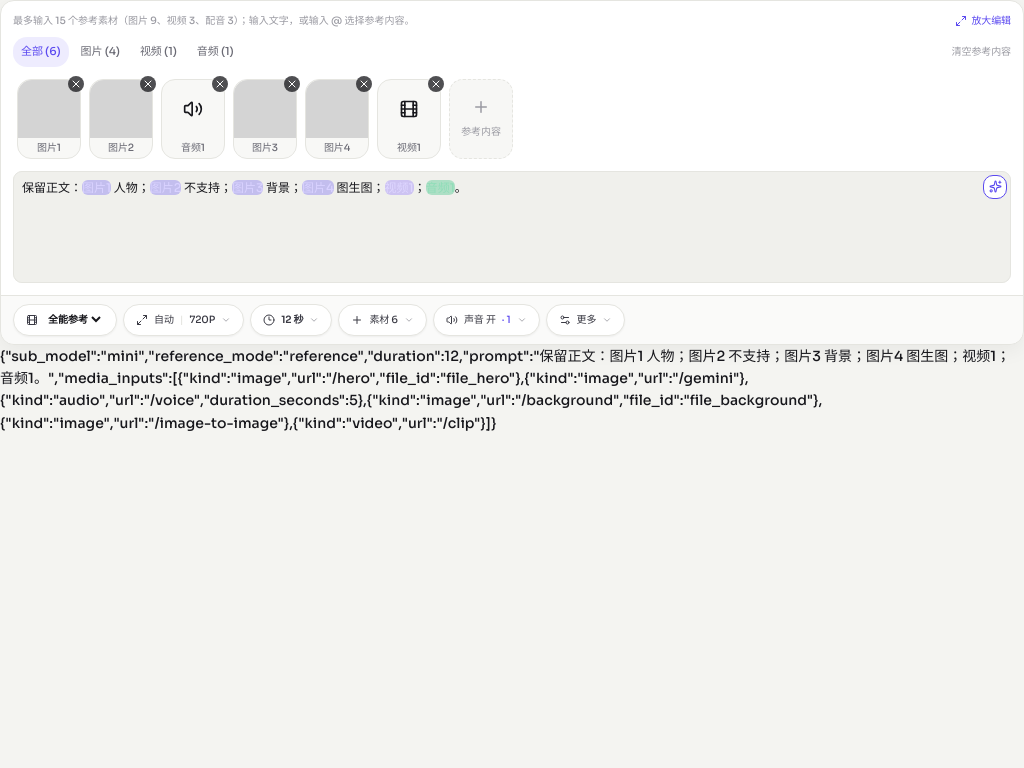
Test: portrait reference removal consent › never offers to clear every image, preserving audio, prompt and the unchecked mode
Step 1. Click the button with aria-label "高级设置" → click(586, 320), box [546, 304, 625, 336]
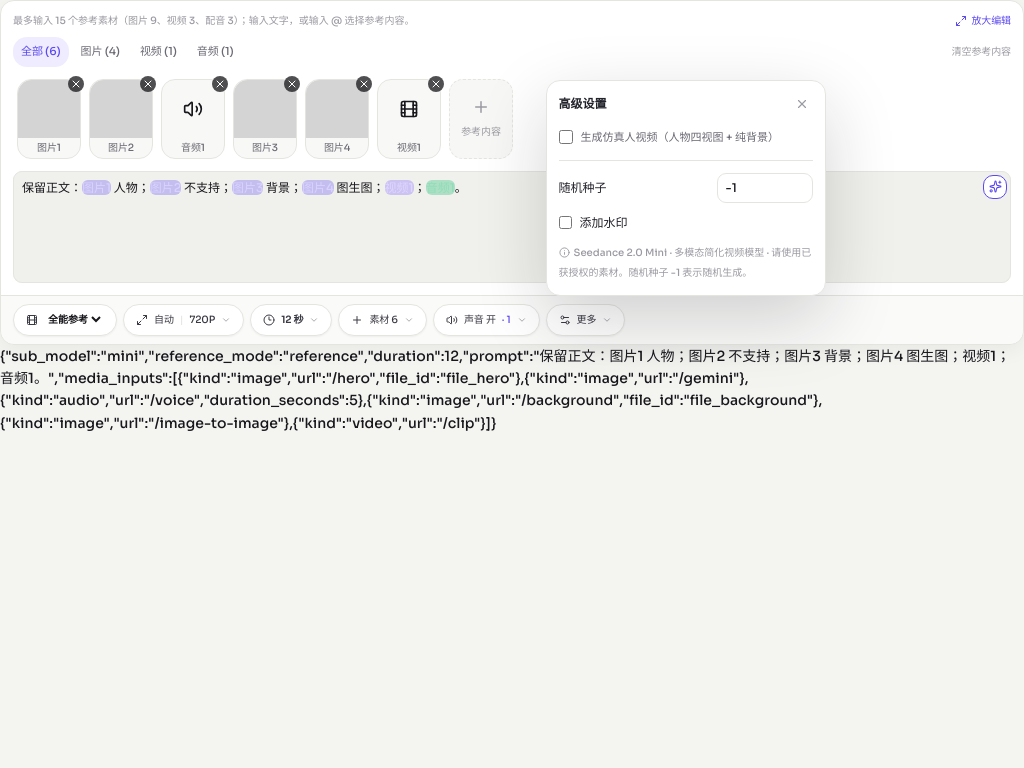
Step 2. Click the checkbox labelled "生成仿真人视频（人物四视图 + 纯背景）" → click(566, 137), box [559, 130, 573, 144]
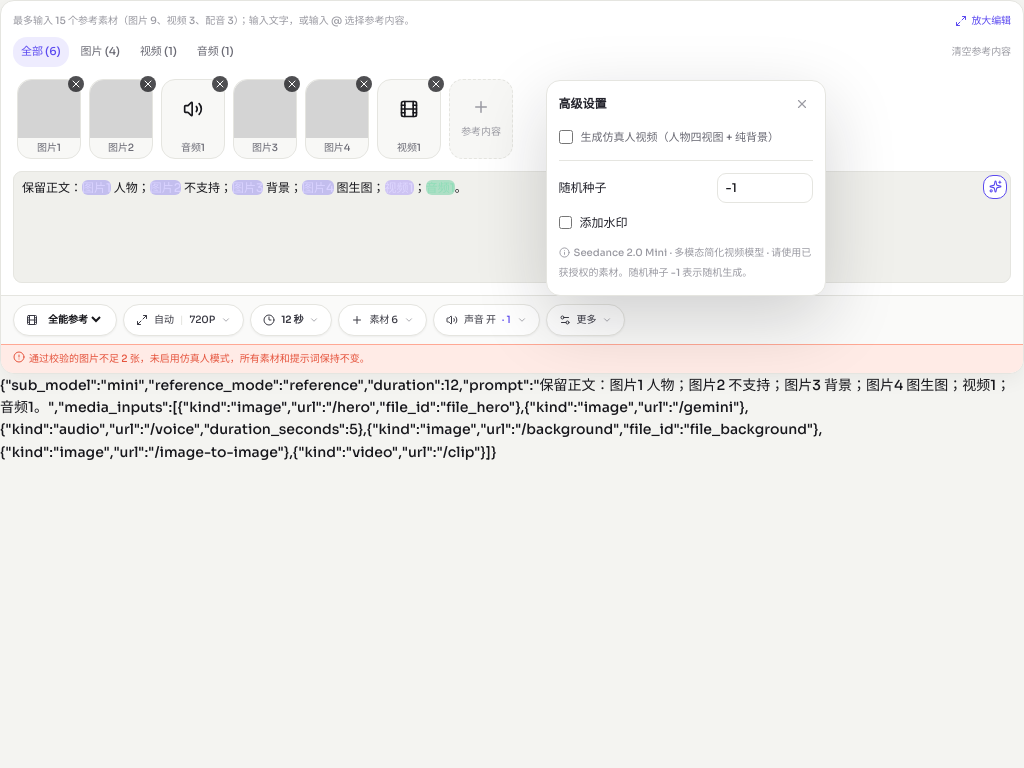
Expected: the checkbox labelled "生成仿真人视频（人物四视图 + 纯背景）" is not checked, [559, 130, 573, 144]
Expected: the message shows "所有素材和提示词保持不变", [29, 352, 370, 365]
